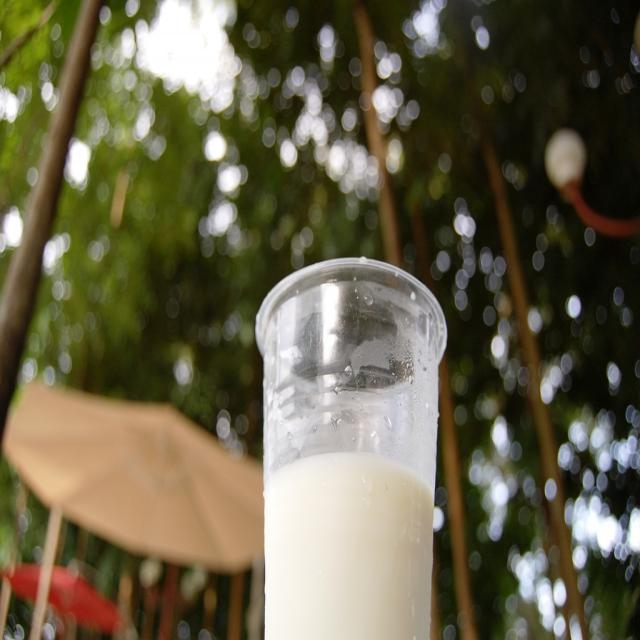Milk: (263, 452, 436, 640)
